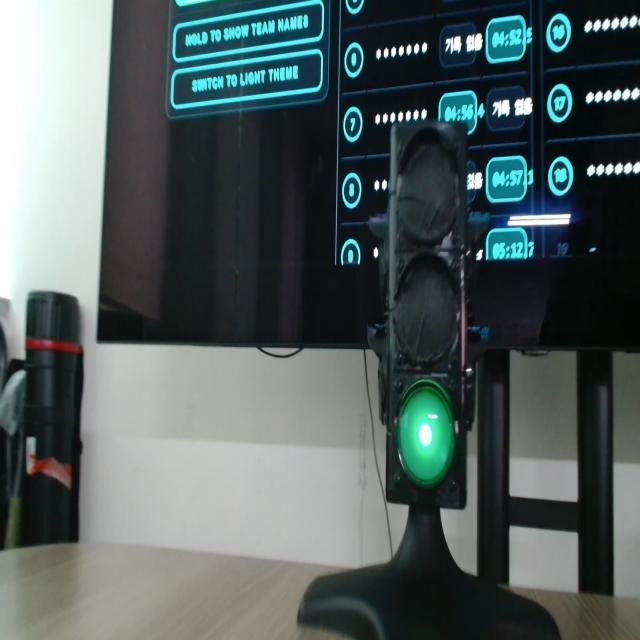green_light: (398, 381, 454, 486)
